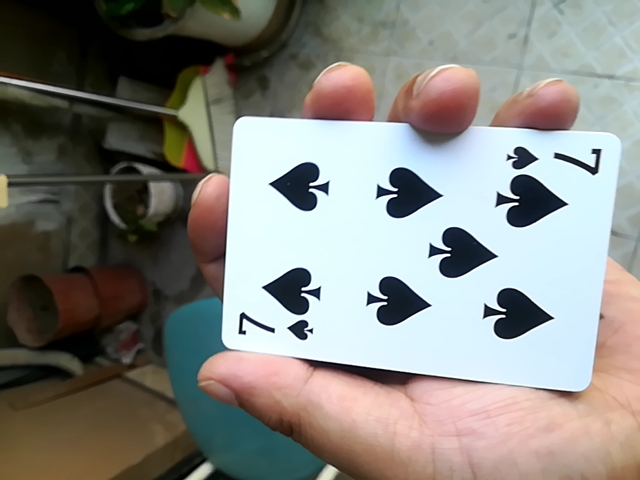ht 7: (212, 115, 625, 387)
